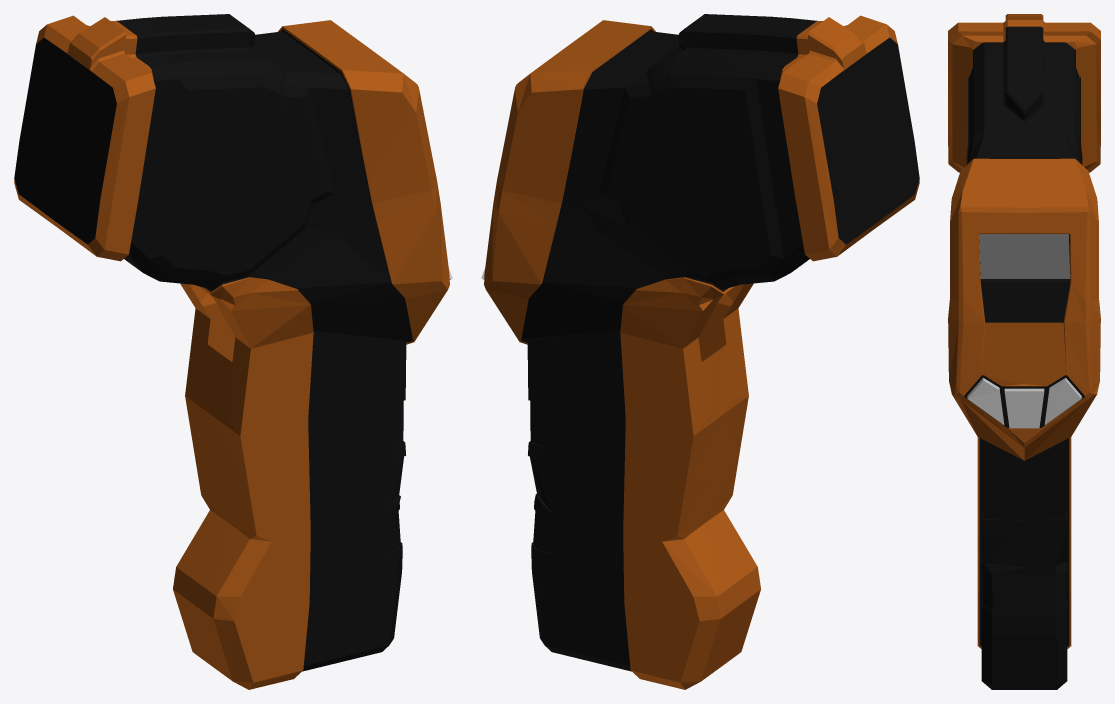
3 renders of one model, left to right at view 1: azimuth 30°, elevation 25°; view 2: azimuth 150°, elevation 25°; view 3: azimuth 270°, elevation 25°, orthographic. The views are drawn at different scales.
Visible parts, largest first — view 1: Infrared_Thermometer; view 2: Infrared_Thermometer; view 3: Infrared_Thermometer.
Part boxes in pixels (box(x1,y1,x2,y2)): Infrared_Thermometer: box(14, 14, 452, 689); Infrared_Thermometer: box(481, 14, 919, 689); Infrared_Thermometer: box(948, 14, 1100, 689).
Bounding box in the file's own units: 0.1048 × 0.1857 × 0.0447.
